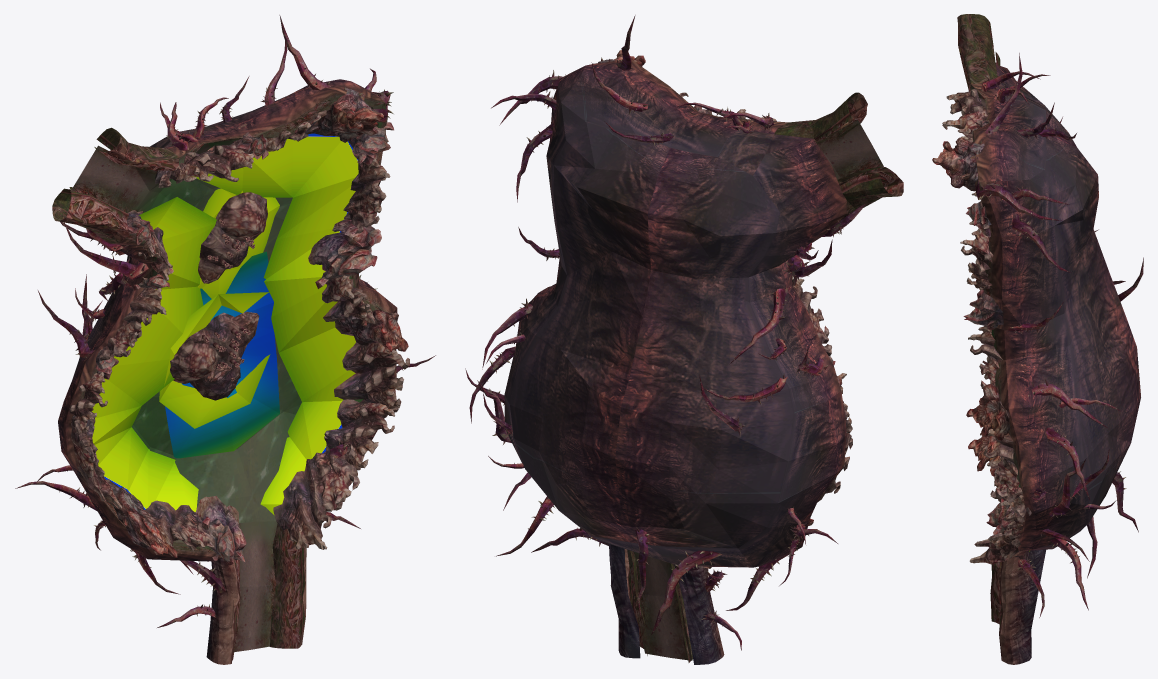
The model's file is huodongfuben_655_wei.obj.
The picture shows the model from 3 angles, left to right: view 1: azimuth 30°, elevation 25°; view 2: azimuth 150°, elevation 25°; view 3: azimuth 270°, elevation 25°; orthographic projection. The views are drawn at different scales.
Parts seen in each view (by area): view 1: huodongfuben_655_wei; view 2: huodongfuben_655_wei; view 3: huodongfuben_655_wei.
Part boxes in pixels (x1,y1,x2,y2): huodongfuben_655_wei: (15,15,435,664); huodongfuben_655_wei: (465,15,903,664); huodongfuben_655_wei: (932,14,1143,664).
Bounding box in the file's own units: 2508 × 3723 × 1184.
Materials: 9 (9 with a texture image).
